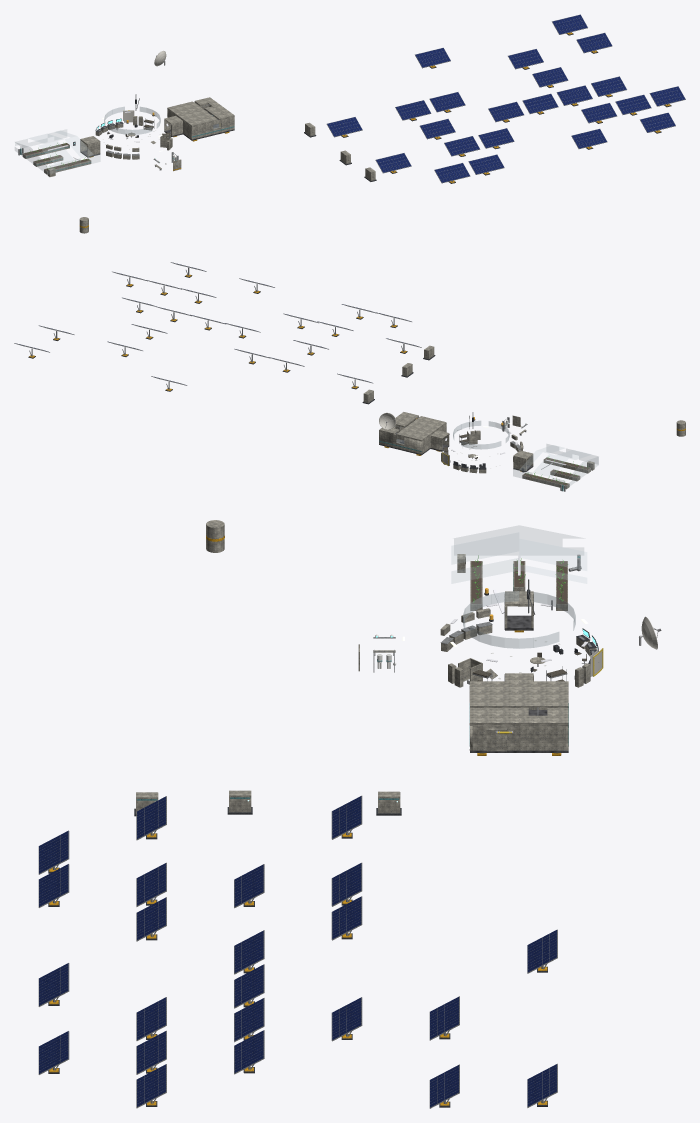
File: BaseConsertada.fbx
3 views of the same model, one above another, from view 1: azimuth 30°, elevation 25°; view 2: azimuth 150°, elevation 25°; view 3: azimuth 270°, elevation 25° (orthographic). The views are drawn at different scales.
Parts seen in each view (by area): view 1: OK_SuporteVida_Casco, OK_Estufa_Vidros, OK_Interior_Estufa, OK_Interior_Hub, OK_Painel_R2_C9, OK_Painel_R5_C9, OK_Painel_R2_C8, OK_Painel_R3_C7, OK_Painel_R4_C3, OK_Painel_R1_C6, OK_Painel_R2_C1, OK_Painel_R2_C3 (+17 smaller); view 2: OK_SuporteVida_Casco, OK_Estufa_Vidros, OK_Interior_Estufa, OK_Interior_Hub, OK_Hub_Torre_Vidros, OK_Corredor_Estufa; view 3: OK_SuporteVida_Casco, OK_Estufa_Vidros, OK_Interior_Hub, OK_Interior_Estufa, OK_Hub_Torre_Vidros, OK_Painel_R4_C4, OK_Painel_R4_C1, OK_Painel_R4_C7, OK_Painel_R1_C3, OK_Painel_R1_C8, OK_Painel_R1_C6, OK_Painel_R2_C4 (+17 smaller).
Boxes of the visible parts, x1,y1,x2,y2 form: OK_SuporteVida_Casco: (167, 97, 234, 141); OK_Estufa_Vidros: (15, 129, 100, 173); OK_Interior_Estufa: (18, 143, 91, 176); OK_Interior_Hub: (96, 111, 172, 159); OK_Painel_R2_C9: (649, 86, 685, 107); OK_Painel_R5_C9: (576, 32, 612, 53); OK_Painel_R2_C8: (615, 94, 651, 115); OK_Painel_R3_C7: (556, 85, 592, 106); OK_Painel_R4_C3: (395, 100, 431, 121); OK_Painel_R1_C6: (571, 128, 607, 149); OK_Painel_R2_C1: (375, 153, 411, 173); OK_Painel_R2_C3: (444, 136, 480, 156); OK_SuporteVida_Casco: (379, 412, 446, 455); OK_Estufa_Vidros: (513, 444, 598, 487); OK_Interior_Estufa: (522, 457, 594, 491); OK_Interior_Hub: (441, 426, 523, 469); OK_Hub_Torre_Vidros: (453, 421, 509, 449); OK_Corredor_Estufa: (513, 450, 533, 471); OK_SuporteVida_Casco: (469, 681, 568, 755); OK_Estufa_Vidros: (451, 525, 586, 583); OK_Interior_Hub: (440, 603, 590, 687); OK_Interior_Estufa: (457, 554, 581, 613); OK_Hub_Torre_Vidros: (463, 591, 575, 648); OK_Painel_R4_C4: (331, 896, 362, 940); OK_Painel_R4_C1: (331, 795, 362, 839); OK_Painel_R4_C7: (331, 997, 362, 1041); OK_Painel_R1_C3: (38, 864, 69, 907); OK_Painel_R1_C8: (38, 1031, 69, 1074); OK_Painel_R1_C6: (38, 963, 69, 1006); OK_Painel_R2_C4: (136, 897, 166, 941).
Bounding box in the file's own units: 14537 × 1360 × 6691.
